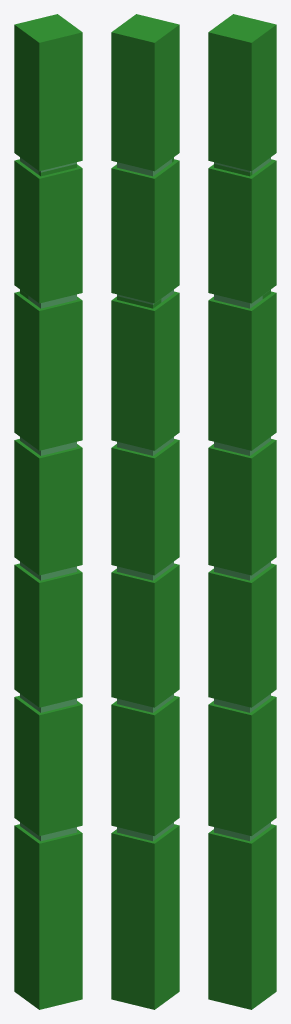
The model's file is bamboo.obj.
3 renders of one model, left to right at view 1: azimuth 30°, elevation 25°; view 2: azimuth 150°, elevation 25°; view 3: azimuth 330°, elevation 25°, orthographic.
Bounding box in the file's own units: 1.2 × 25.6 × 1.2.
1 material, 1 textured.
